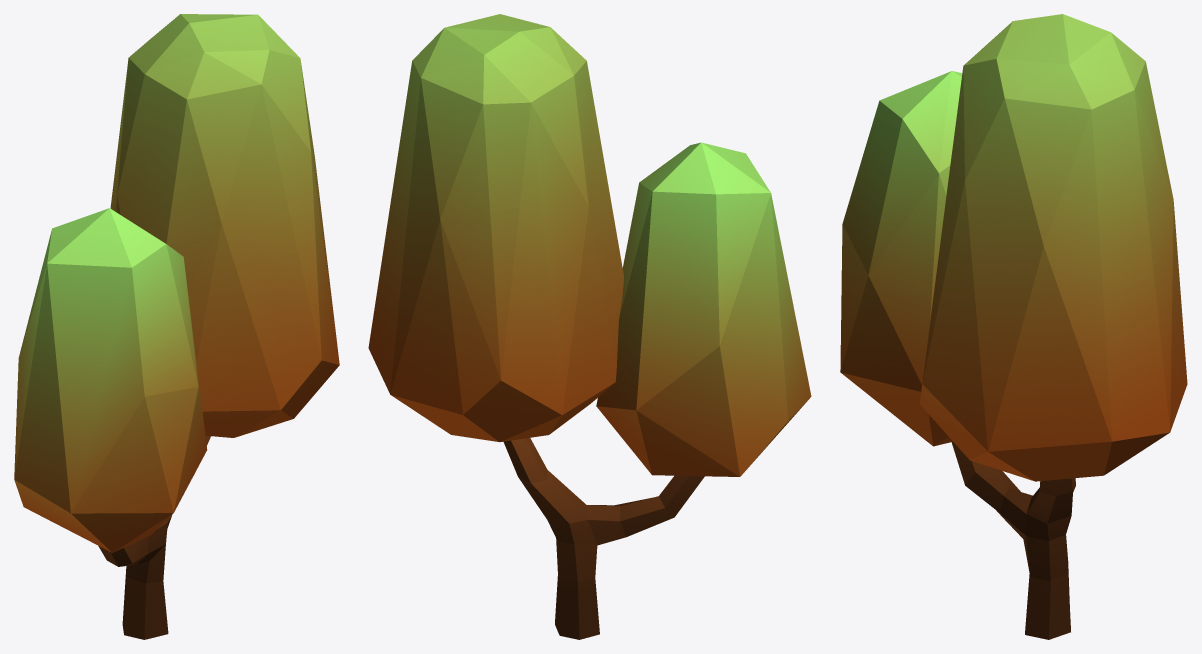
File: Tree1.fbx
The picture shows the model from 3 angles, left to right: view 1: azimuth 30°, elevation 25°; view 2: azimuth 150°, elevation 25°; view 3: azimuth 270°, elevation 25°; orthographic projection. The views are drawn at different scales.
Parts seen in each view (by area): view 1: tree_A2; view 2: tree_A2; view 3: tree_A2.
Boxes of the visible parts, left/top/right/bottom form: tree_A2: left=14, top=14, right=339, bottom=639; tree_A2: left=368, top=14, right=811, bottom=639; tree_A2: left=840, top=14, right=1187, bottom=639.
Size of the model in its own units: 152 by 245 by 120.
